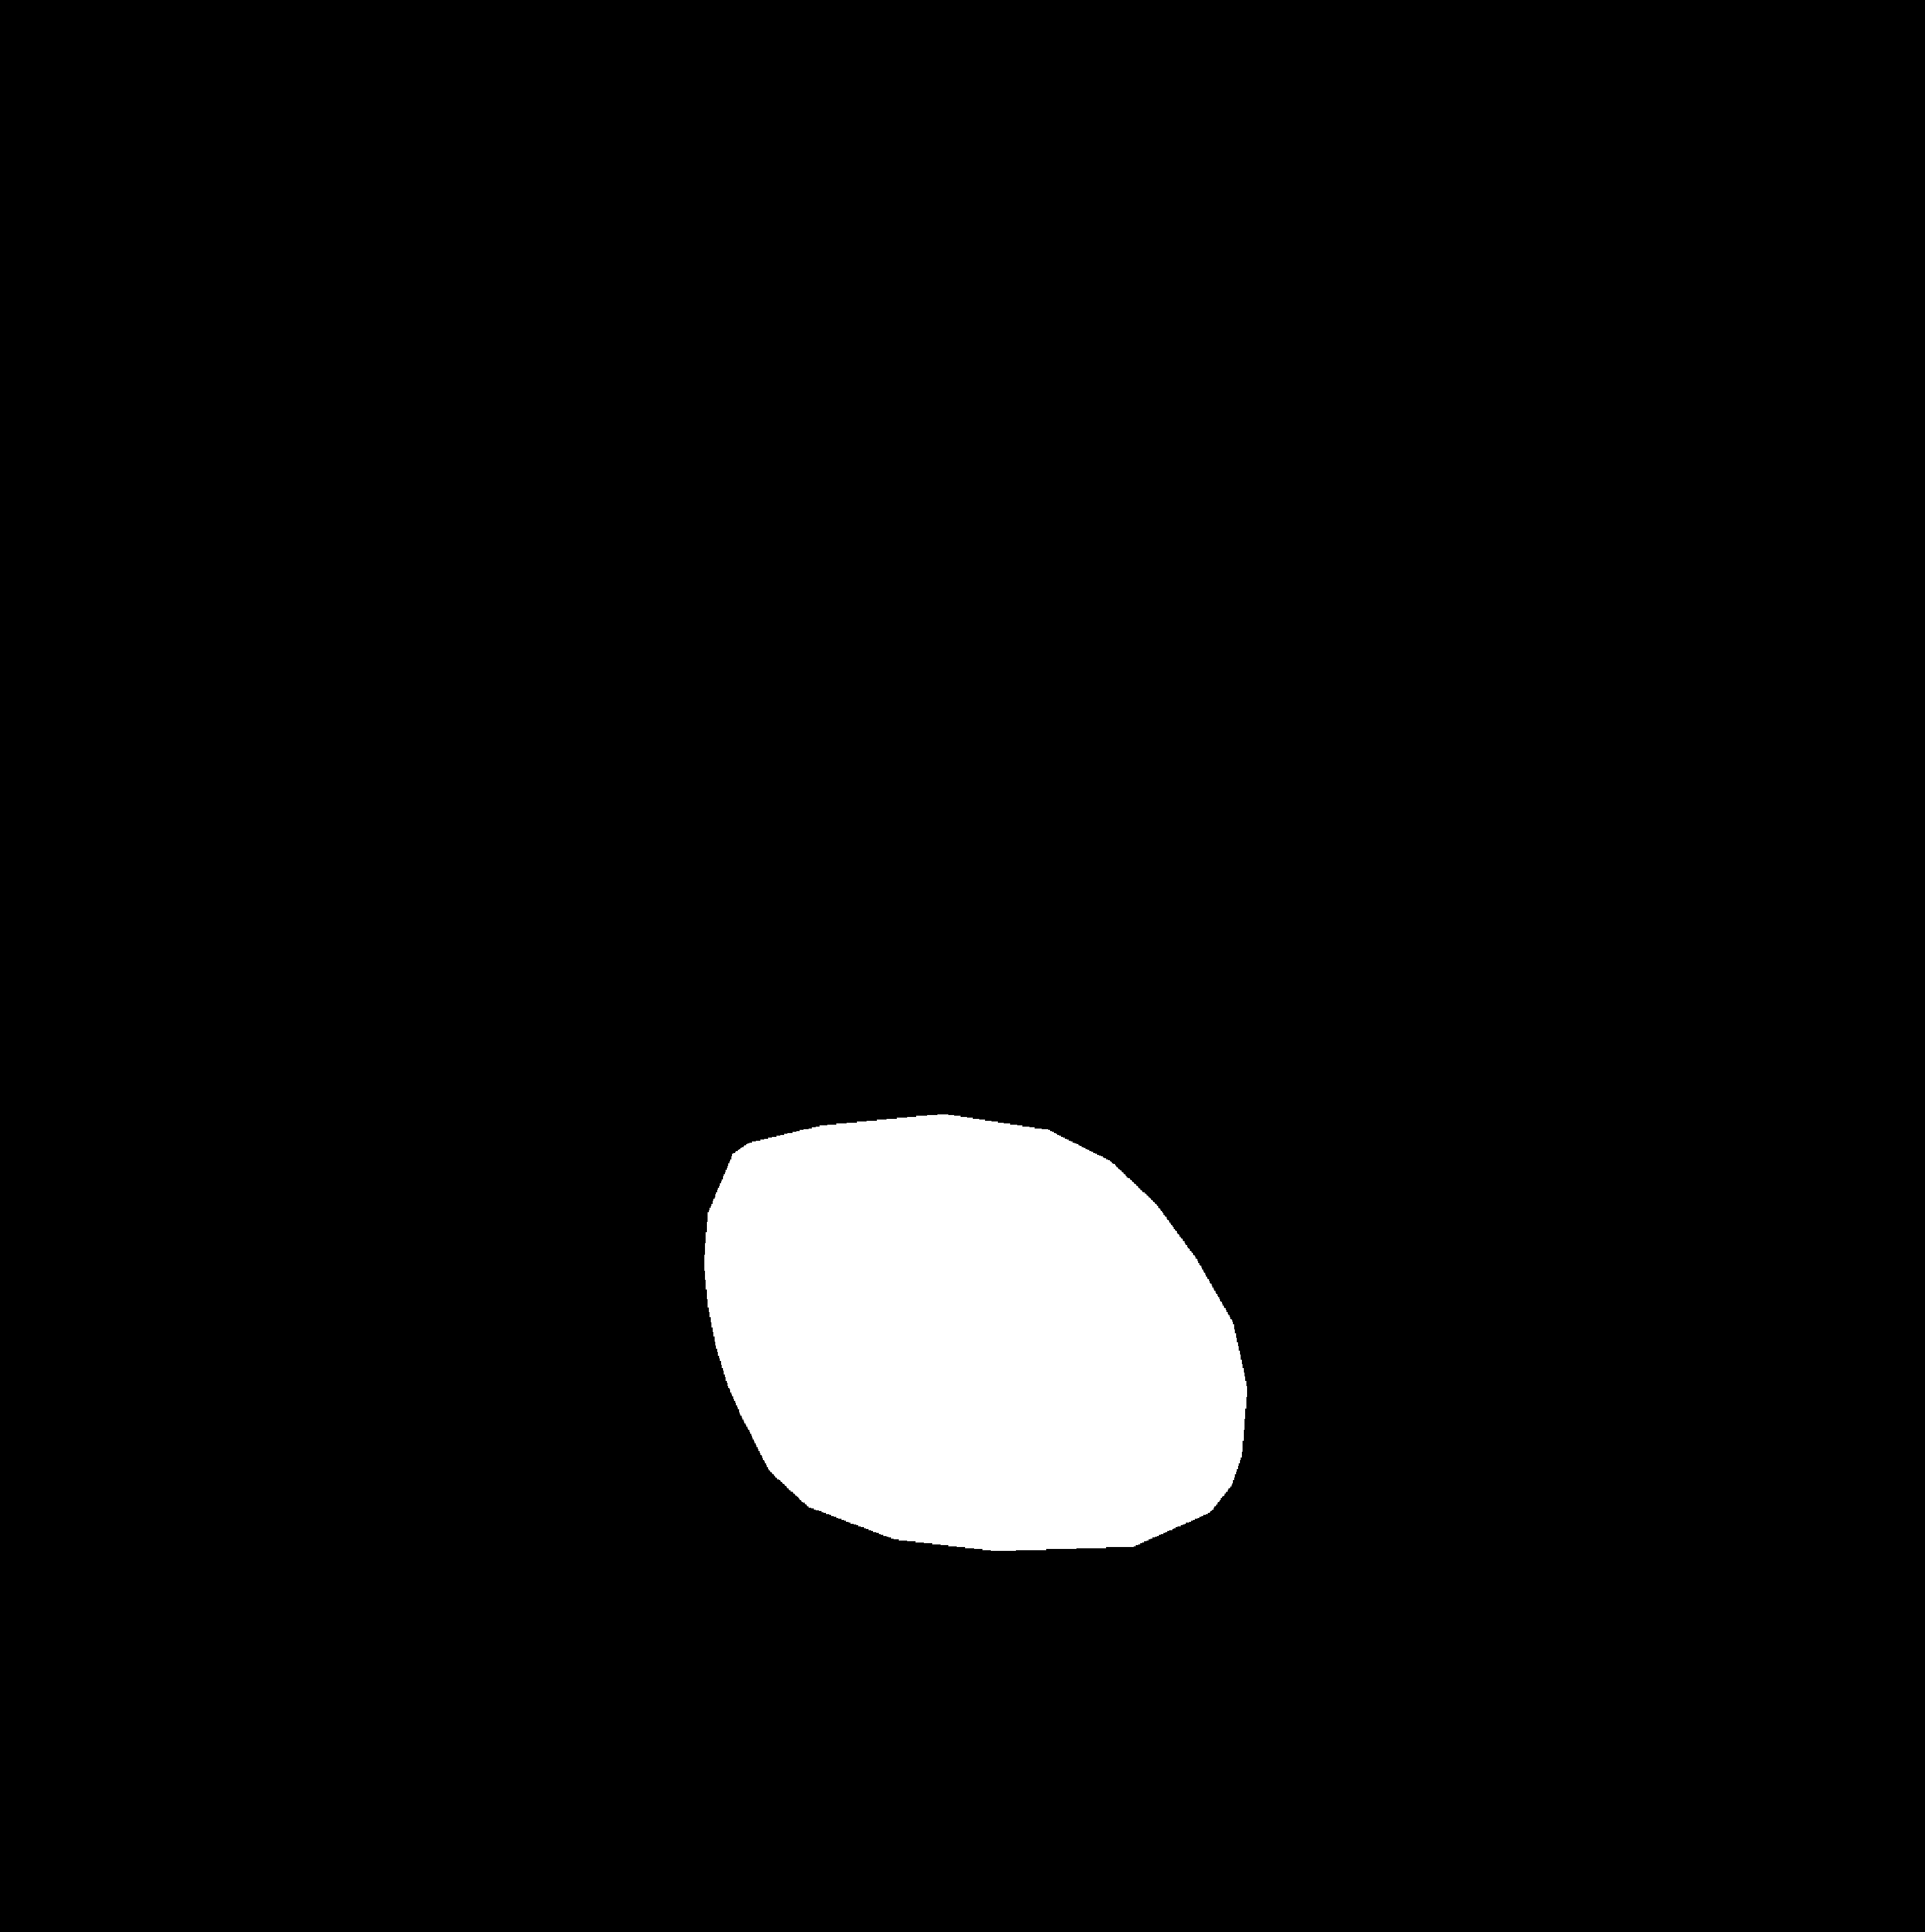heart: (702, 1109, 1245, 1555)
left_lung: (273, 374, 816, 1729)
right_lung: (977, 365, 1520, 1710)
